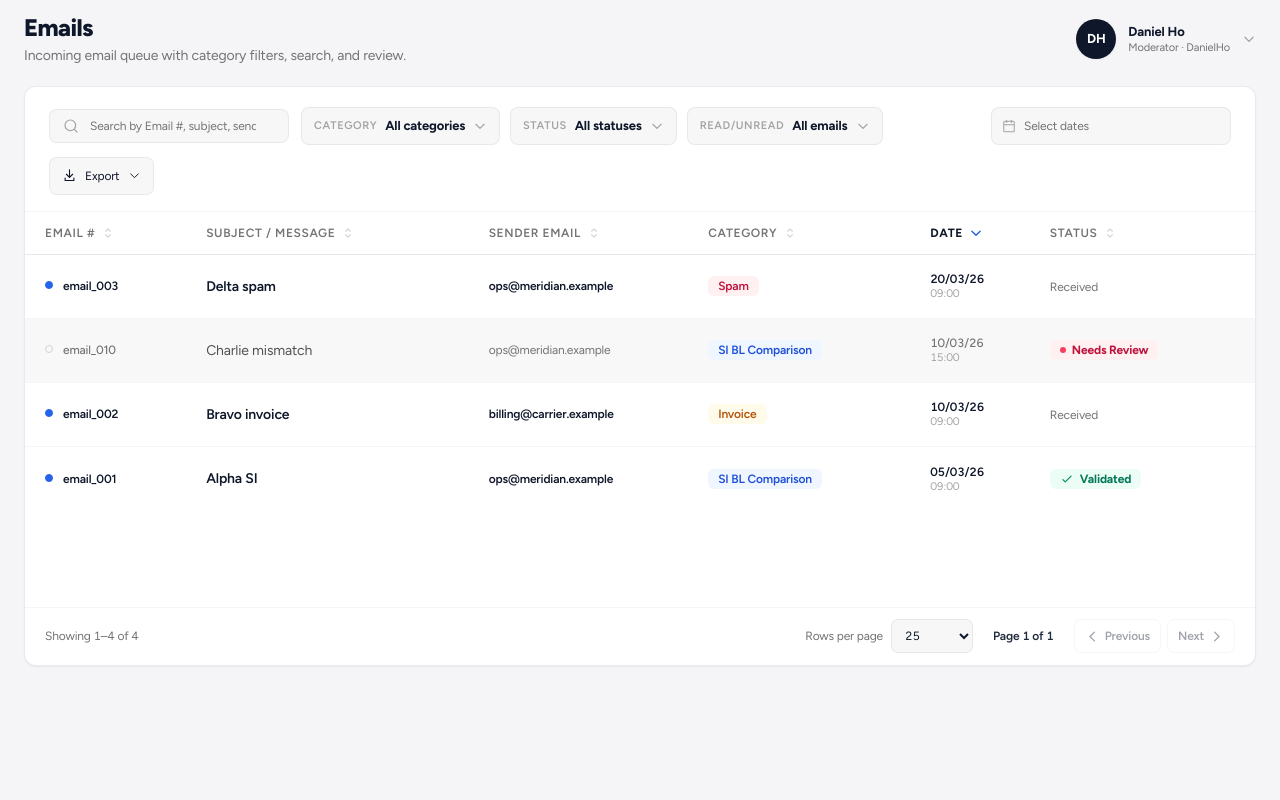
Emails table › counts each filter option
Step 1. Click the button "Category All categories" → (401, 126), box [301,107,500,145]
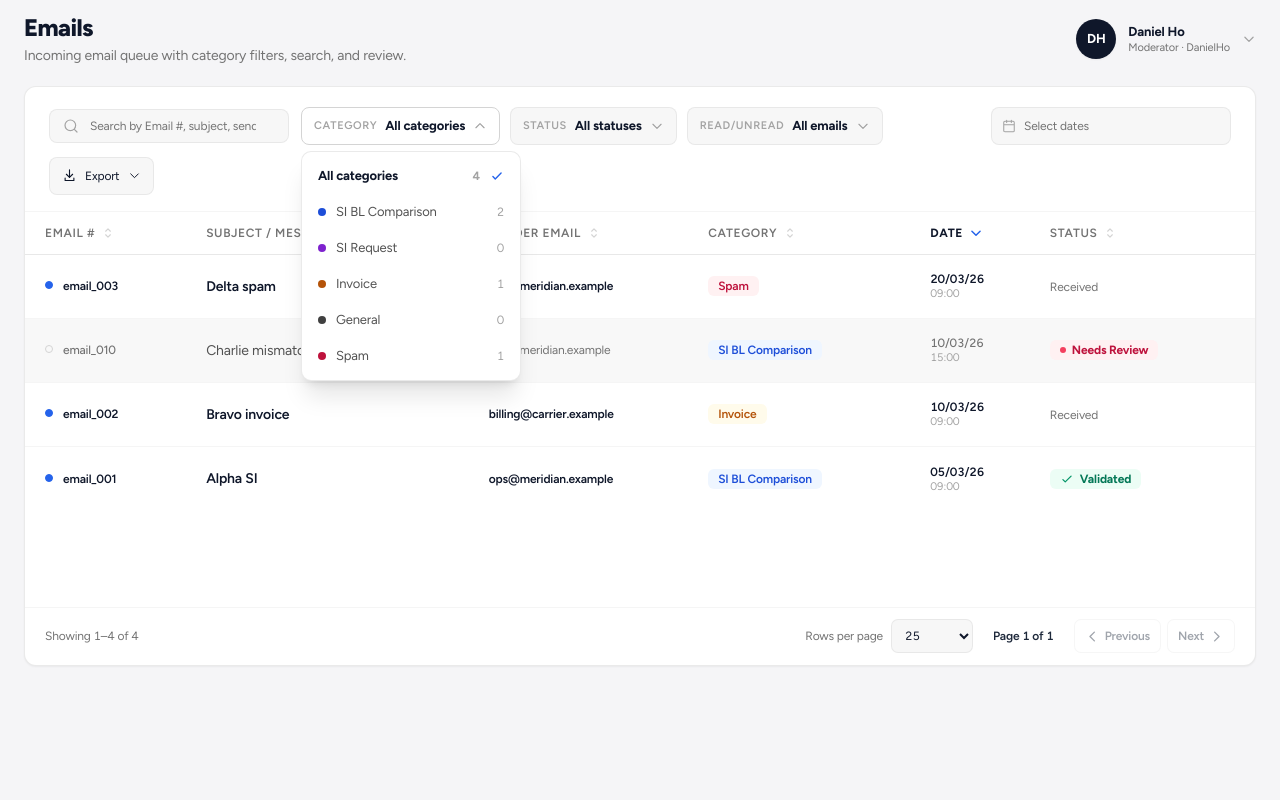
Check: the menu item "All categories 4" is shown, box [318,168,504,183]
Check: the menu item "SI BL Comparison 2" is shown, box [318,204,504,219]
Check: the menu item "Spam 1" is shown, box [318,348,504,363]
Step 2. Click the button "Status All statuses" → (593, 126), box [510,107,677,145]
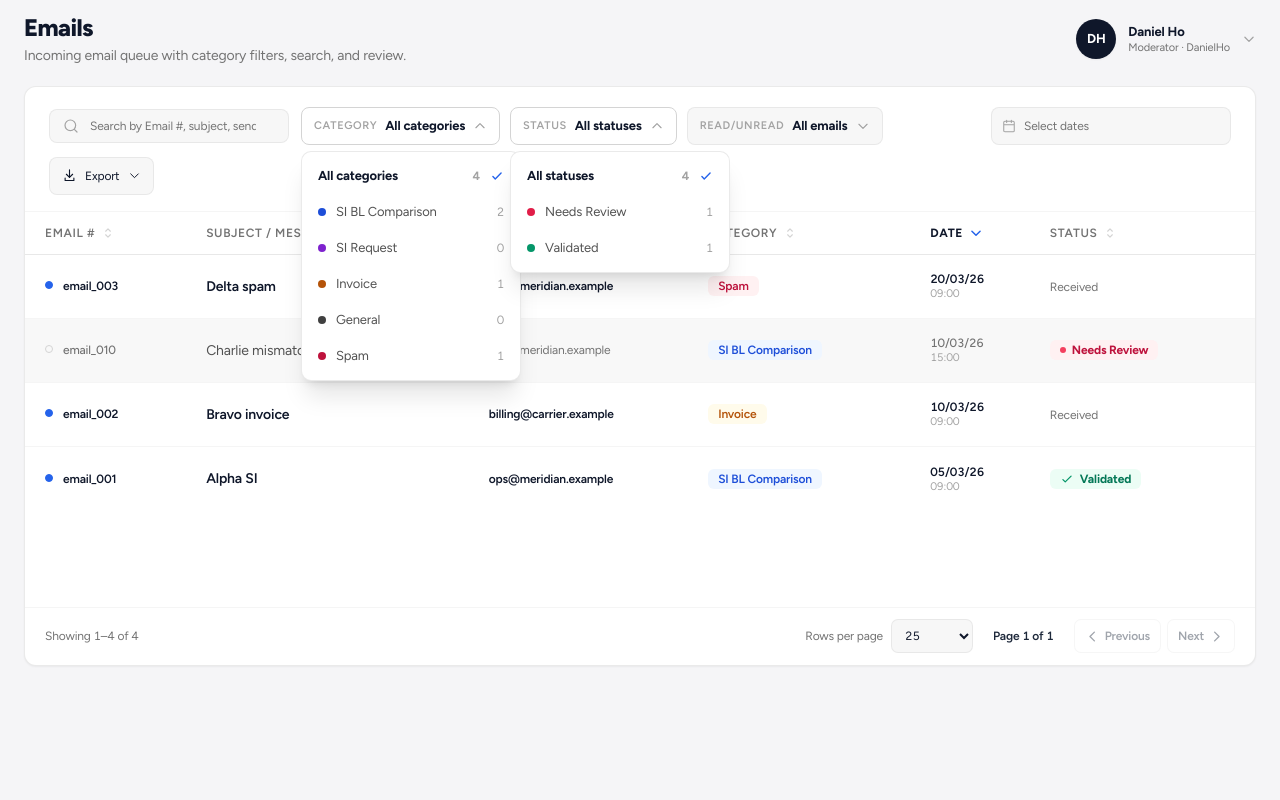
Check: the menu item "All statuses 4" is shown, box [527,168,713,183]
Check: the menu item "Needs Review 1" is shown, box [527,204,713,219]
Check: the menu item "Validated 1" is shown, box [527,240,713,255]
Step 3. Click the button "Read/Unread All emails" → (785, 126), box [687,107,882,145]
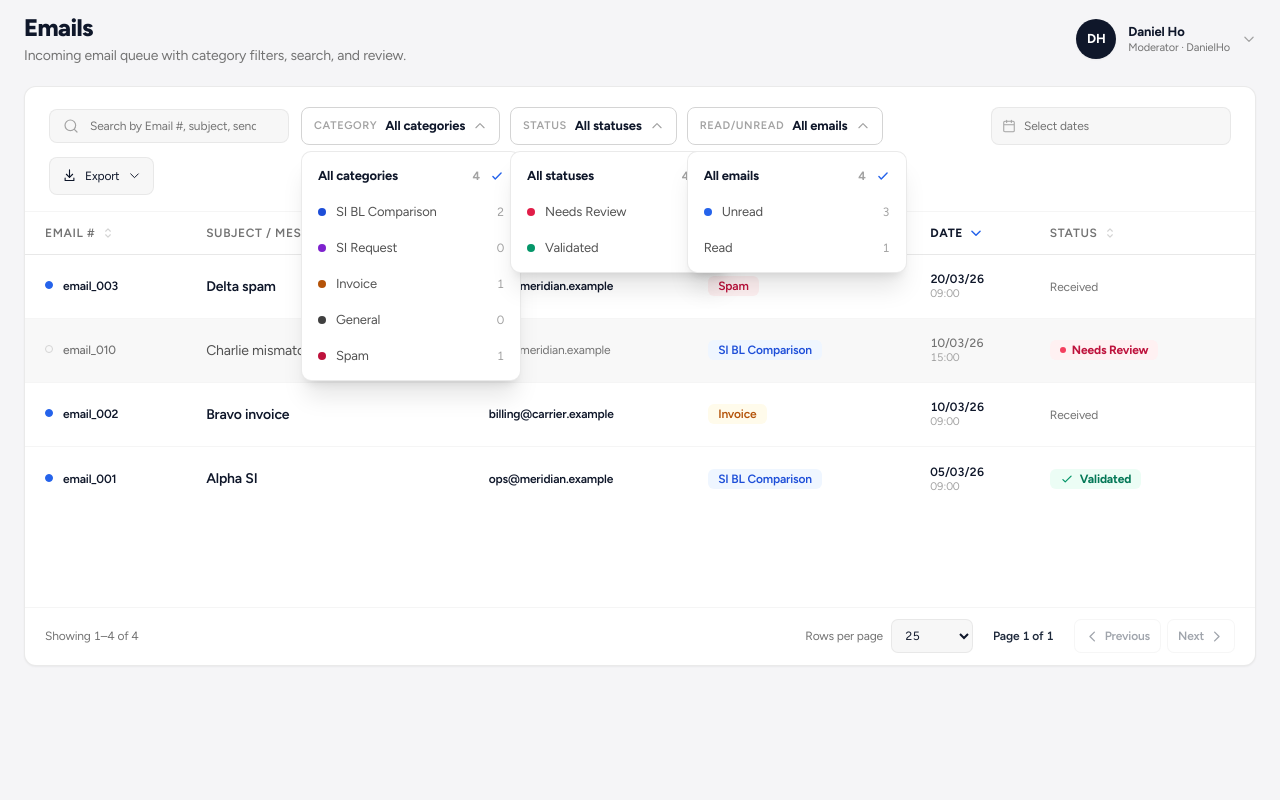
Check: the menu item "All emails 4" is shown, box [704,168,890,183]
Check: the menu item "Unread 3" is shown, box [704,204,890,219]
Check: the menu item "Read 1" is shown, box [704,240,890,255]
